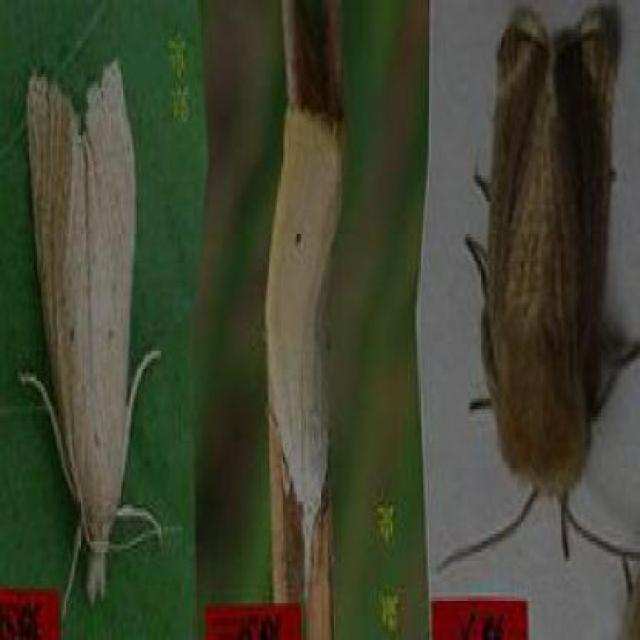stem-borer: (433, 0, 638, 578), (14, 52, 181, 615), (264, 104, 345, 590)
